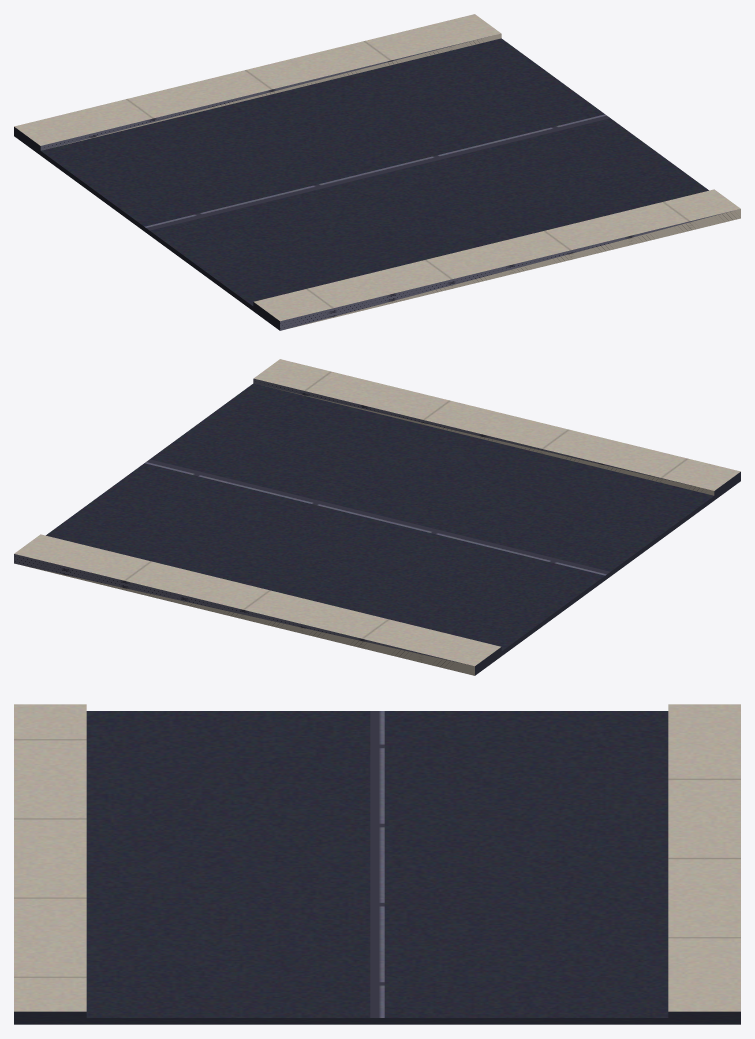
Rendered from road-straight.raw.glb.
The picture shows the model from 3 angles, top to bottom: view 1: azimuth 30°, elevation 25°; view 2: azimuth 150°, elevation 25°; view 3: azimuth 270°, elevation 25°; orthographic projection. The views are drawn at different scales.
Visible parts, largest first — view 1: road-straight; view 2: road-straight; view 3: road-straight.
Part boxes in pixels (bbox=[...]): road-straight: bbox=[14, 14, 740, 330]; road-straight: bbox=[14, 359, 740, 675]; road-straight: bbox=[14, 704, 740, 1024].
Bounding box in the file's own units: 10.6 × 0.212 × 10.6.
Materials: 1 (1 with a texture image).
